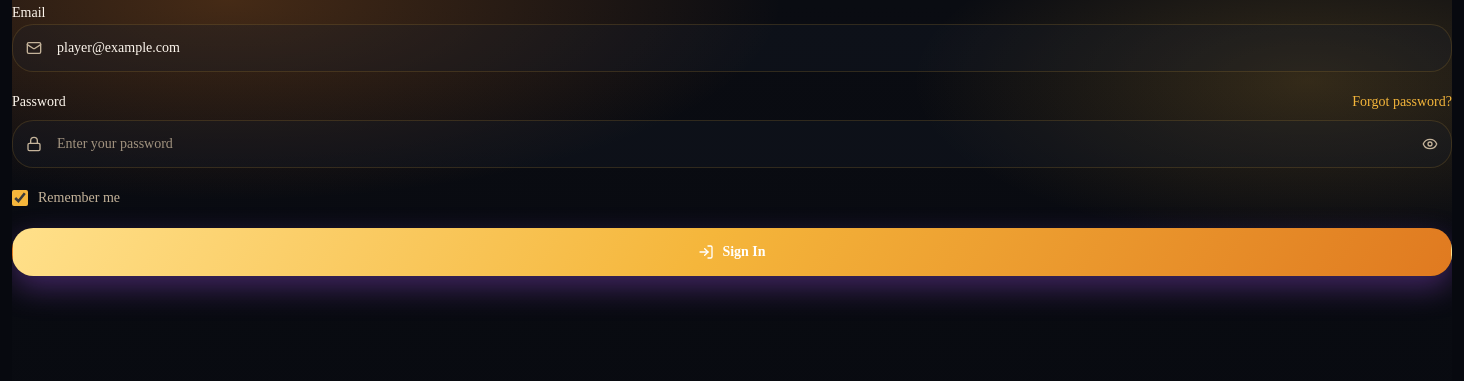
Test: LoginForm › shows API failure message
The width and height of the screenshot is (1464, 381).
Clear the field labelled "Email": (732, 48) [12, 24, 1452, 72]
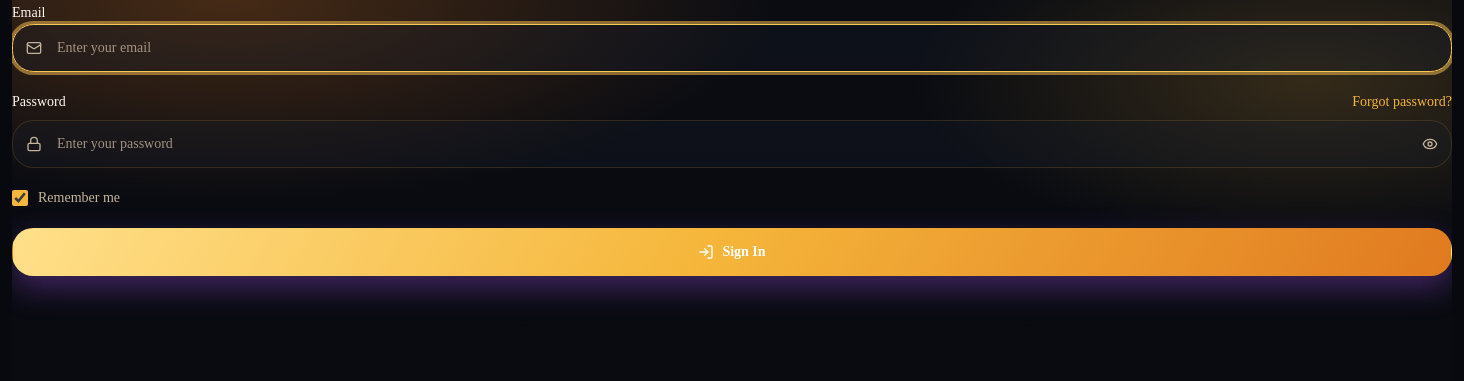
Clear the password field labelled "Password": (732, 144) [12, 120, 1452, 168]
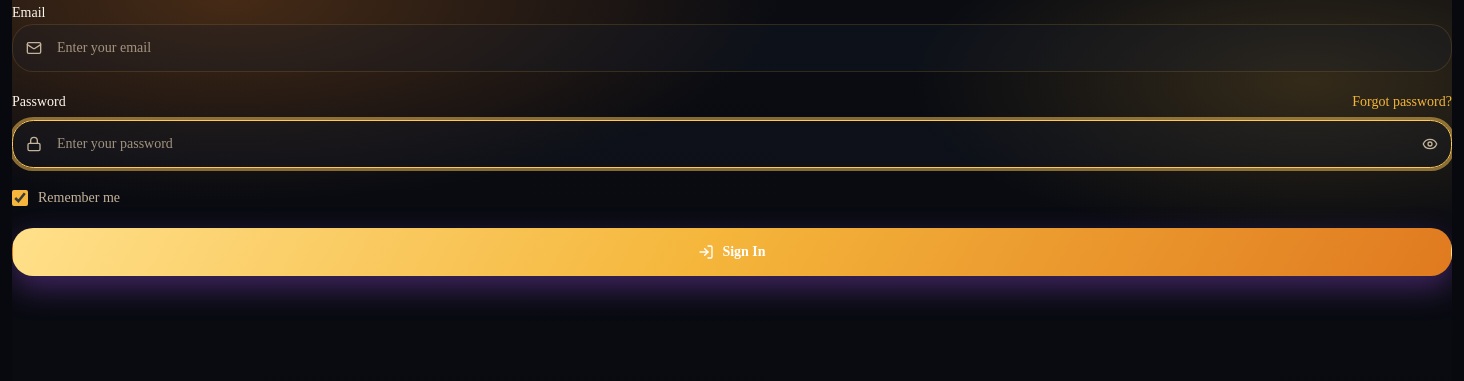
In the field labelled "Email": (732, 48) [12, 24, 1452, 72], type "player@example.com"
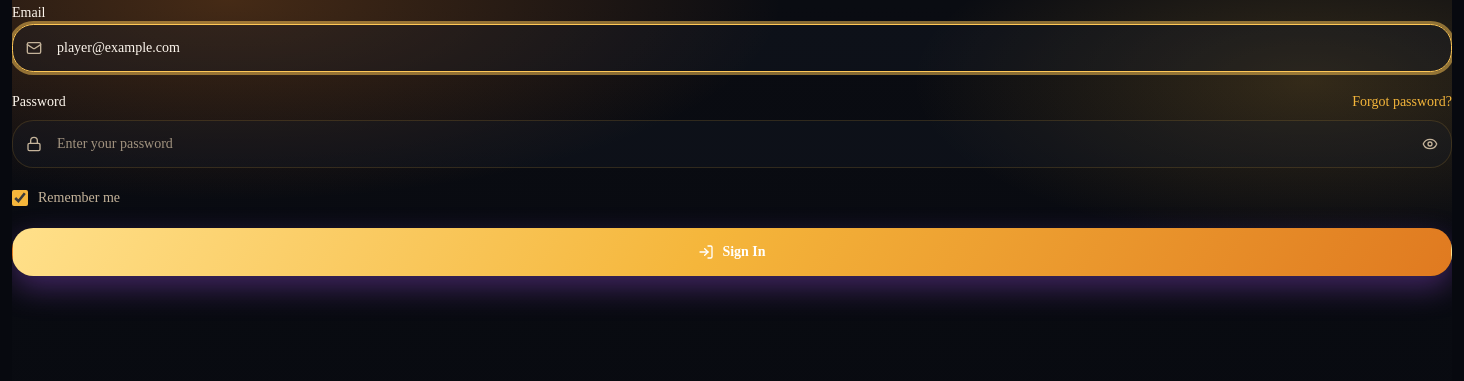
In the password field labelled "Password": (732, 144) [12, 120, 1452, 168], type "bad-password"
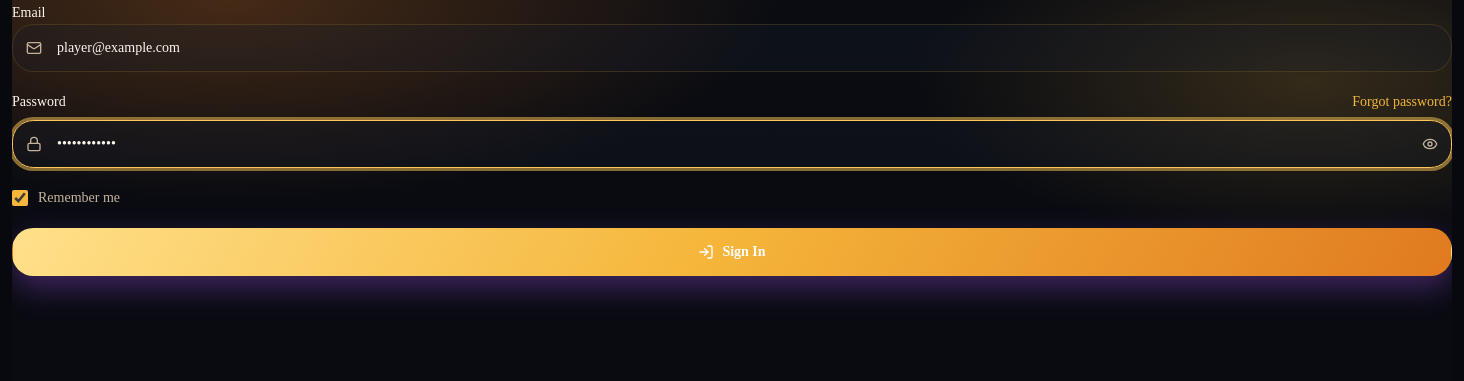
Click the button "Sign In": (732, 252) [12, 228, 1452, 276]
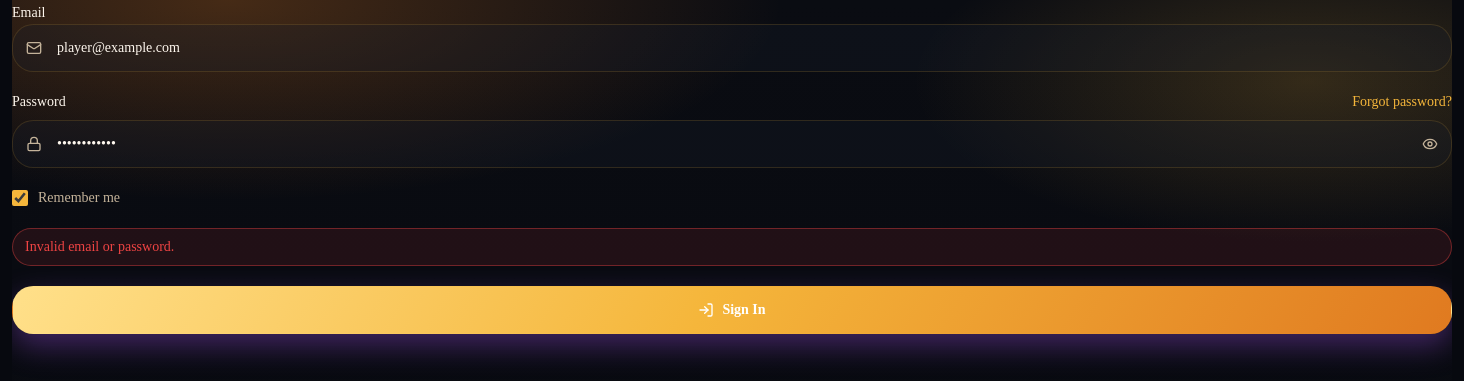
Now the text "Invalid email or password." is shown, box [12, 228, 1452, 266]
